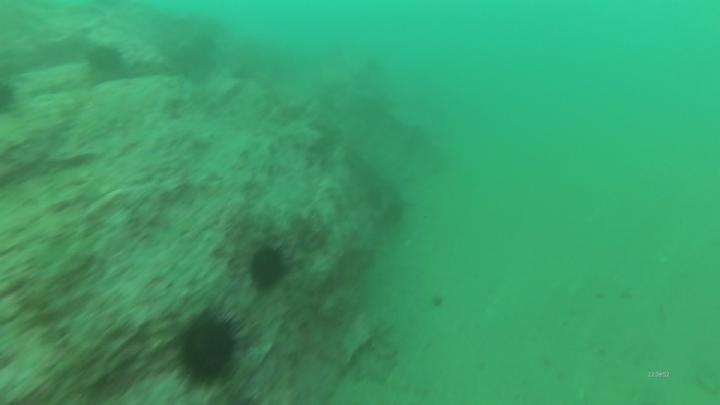echinus: (169, 305, 248, 390), (245, 242, 291, 294), (83, 41, 128, 82)
starfish: (349, 346, 401, 388)
